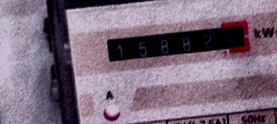1: (112, 38, 123, 57)
2: (199, 29, 212, 48)
5: (134, 38, 146, 55)
7: (222, 34, 234, 46)
8: (177, 32, 190, 51), (155, 35, 168, 53)
screen: (96, 15, 254, 68)
